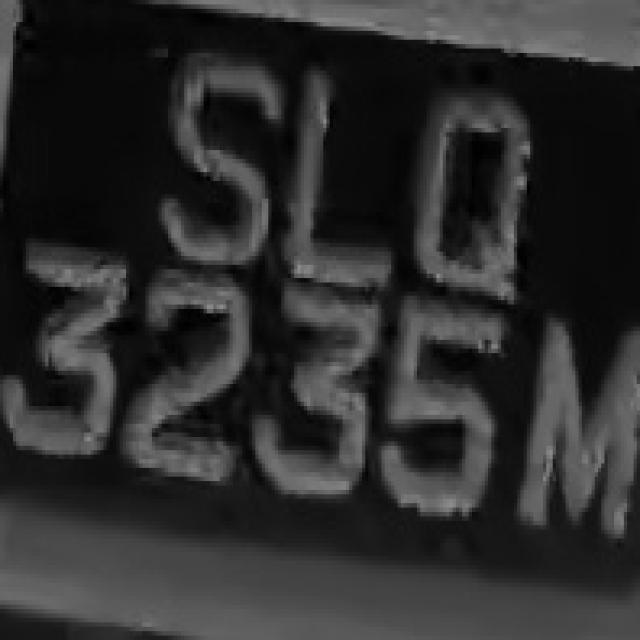2: (142, 256, 252, 503)
3: (271, 287, 375, 503), (29, 238, 126, 468)
5: (394, 300, 508, 525)
L: (284, 49, 398, 314)
M: (523, 340, 640, 543)
Q: (414, 93, 540, 309)
S: (162, 53, 278, 265)
